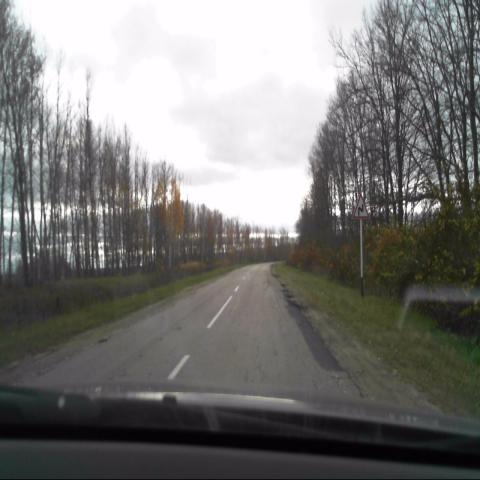1_12: (351, 193, 368, 220)
